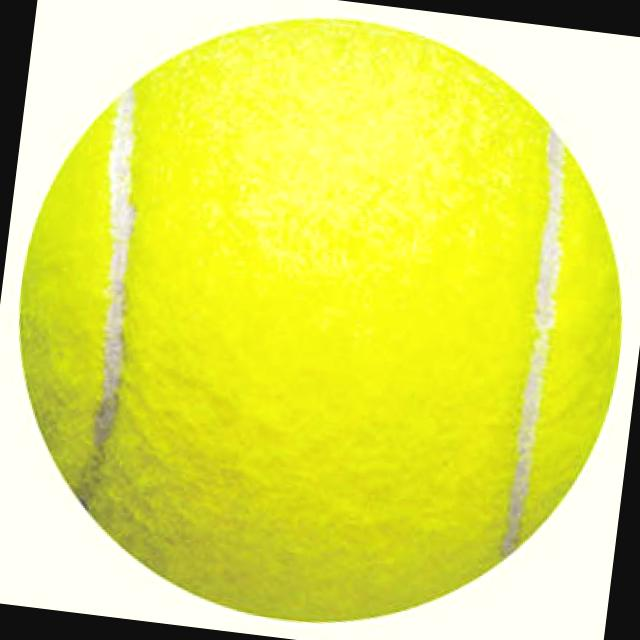Tennis Ball: (17, 16, 627, 626)
